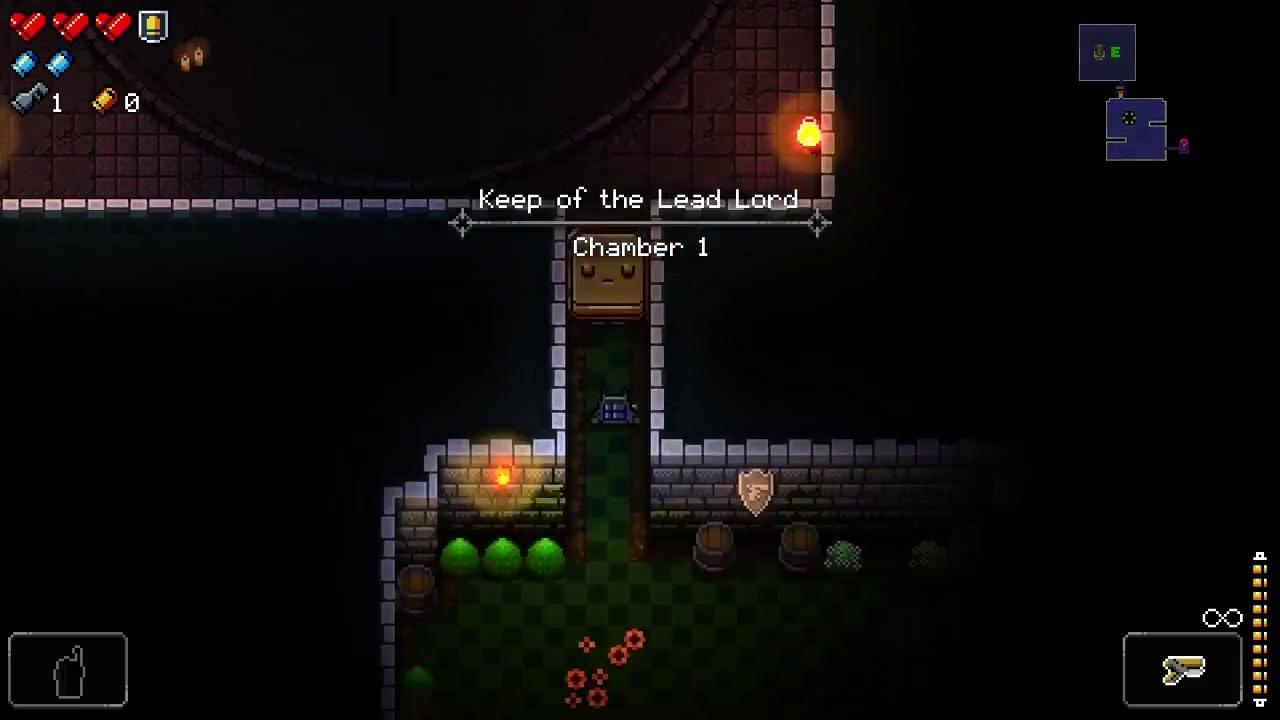locked_door: (566, 227, 650, 321)
player: (593, 387, 638, 427)
